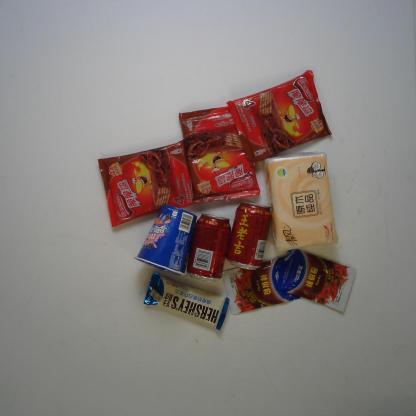Chocolate: (143, 273, 230, 330)
Dessert: (226, 70, 332, 166), (96, 136, 202, 228), (178, 102, 260, 204), (132, 205, 197, 276)
Drink: (185, 213, 231, 282), (225, 201, 271, 270)
Seasoner: (276, 248, 357, 312), (218, 252, 301, 314)
Tissue: (263, 151, 338, 252)
